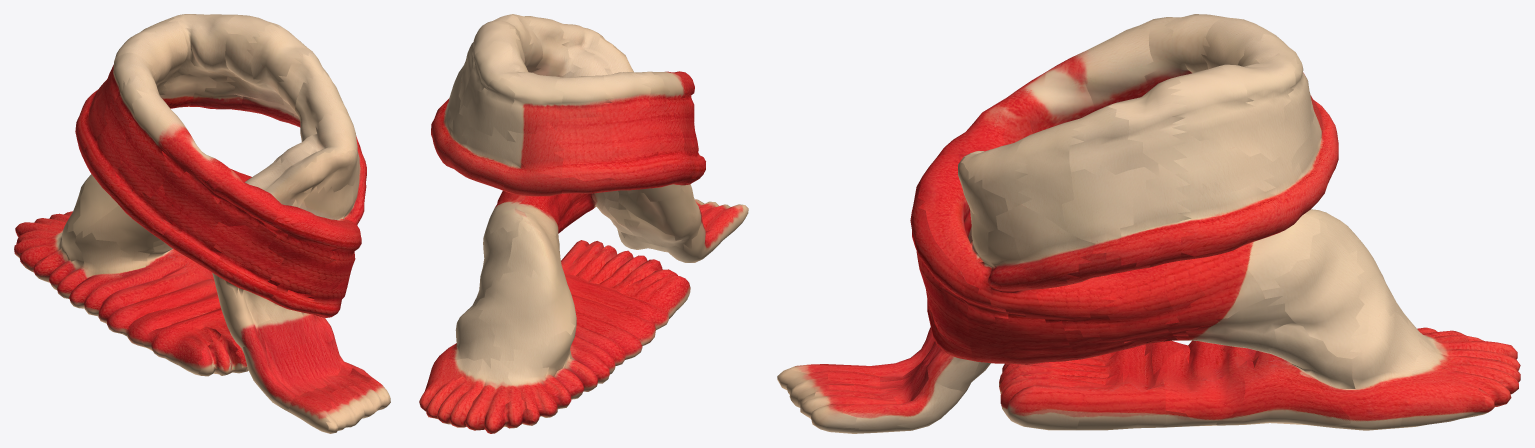
The model's file is scarf_coral.glb.
The picture shows the model from 3 angles, left to right: view 1: azimuth 30°, elevation 25°; view 2: azimuth 150°, elevation 25°; view 3: azimuth 270°, elevation 25°; orthographic projection. The views are drawn at different scales.
Size of the model in its own units: 0.9198 by 1.04 by 1.9.
1 material, 1 textured.
